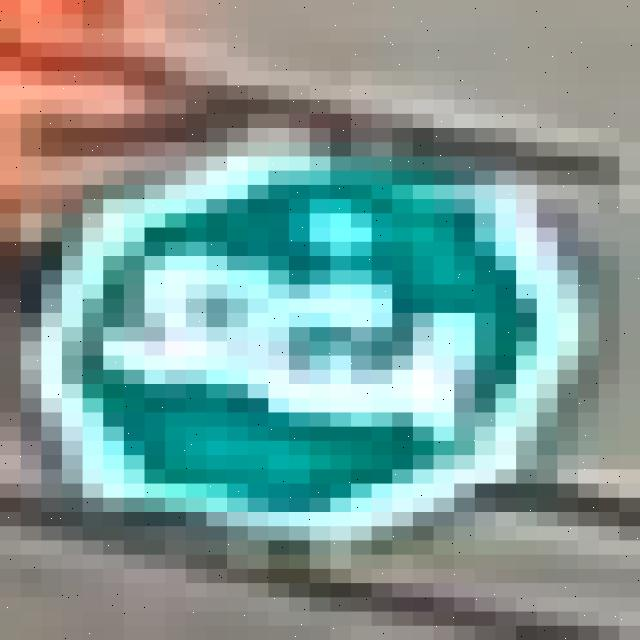go_sign: (21, 114, 619, 555)
